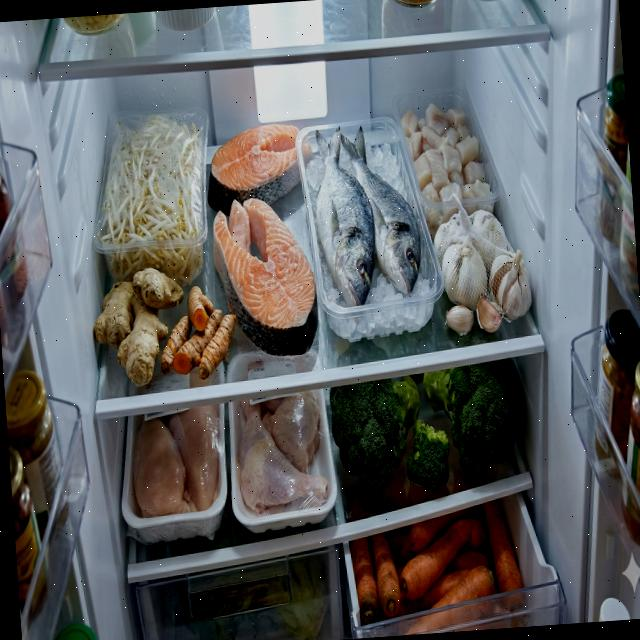bean_sprouts: (92, 112, 215, 296)
brocolli: (325, 333, 453, 501), (421, 356, 524, 480)
carrot: (346, 497, 526, 638)
chicken: (232, 388, 331, 514), (127, 402, 227, 520)
fish: (310, 120, 425, 309), (209, 194, 321, 360), (202, 120, 316, 218)
garlic: (431, 206, 534, 338)
ginger: (89, 264, 190, 390)
turmeric: (155, 282, 239, 382)
